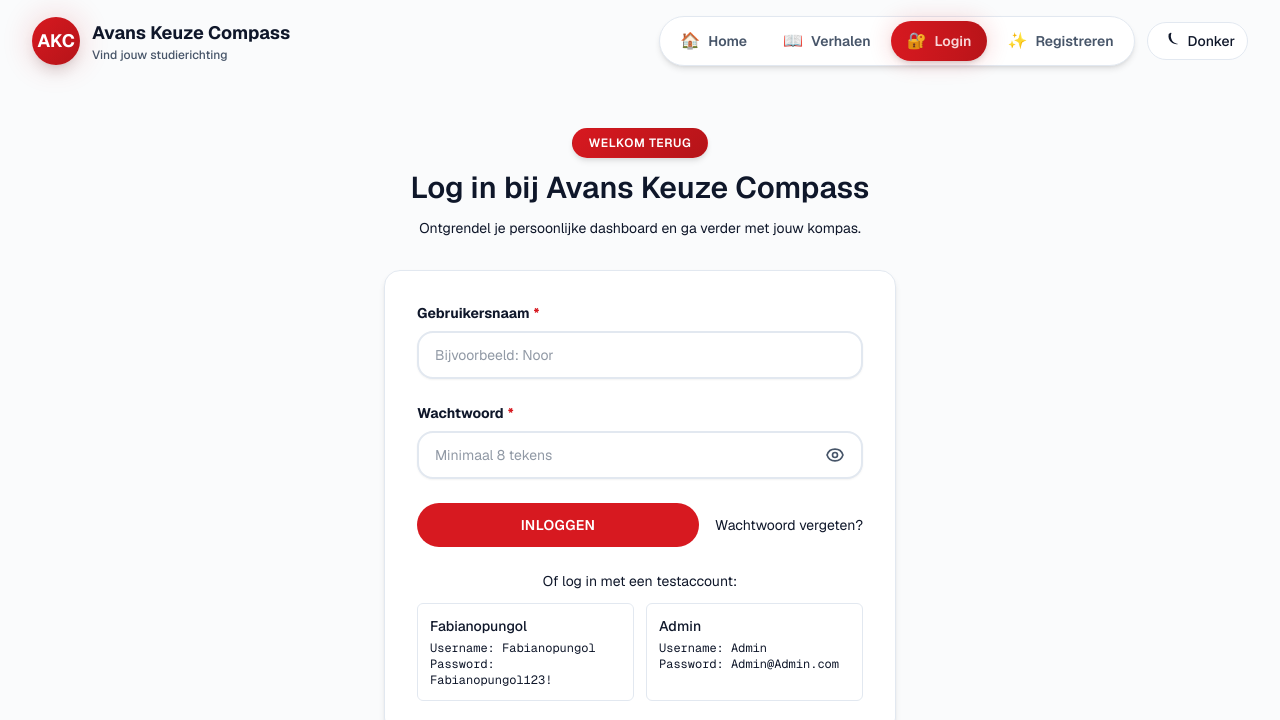
Test: Accessibility E2E Tests › should display error messages in an accessible way
Click the submit button at (558, 525), box [417,503,699,547]
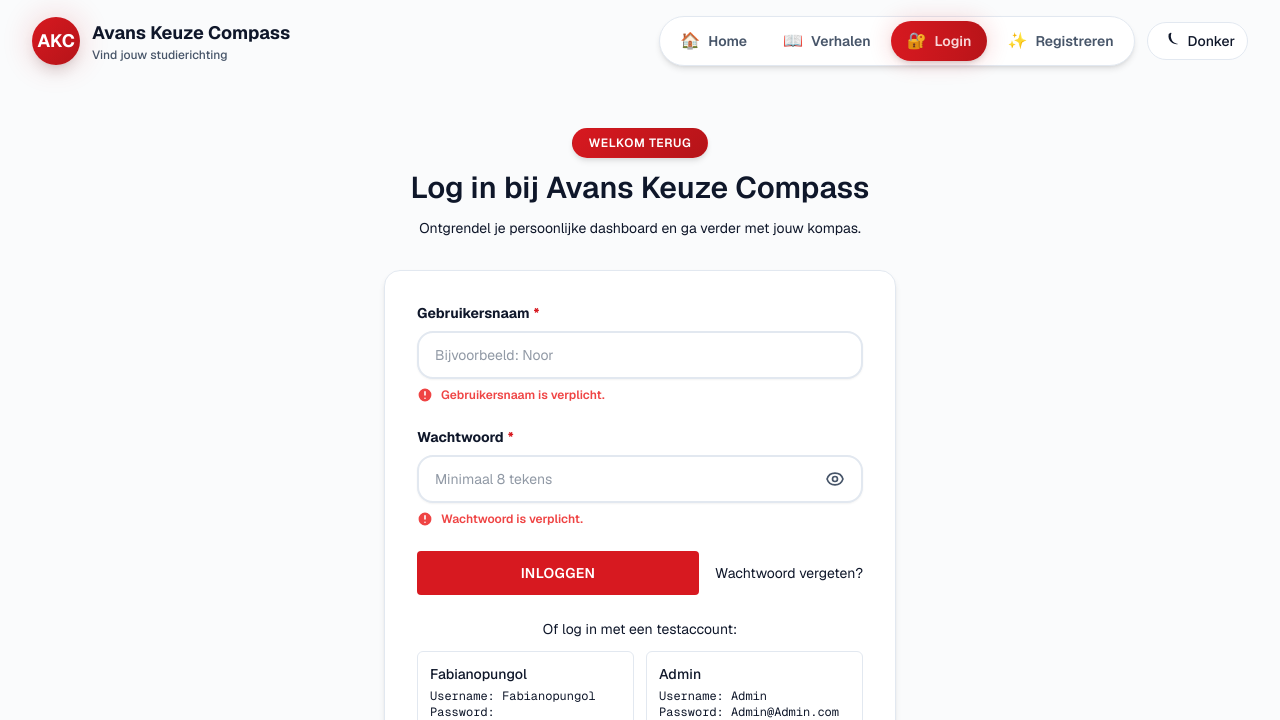
Check: the text "Gebruikersnaam is verplicht" is shown, box [441,387,605,403]
Check: the text "Wachtwoord is verplicht" is shown, box [441,511,583,527]
